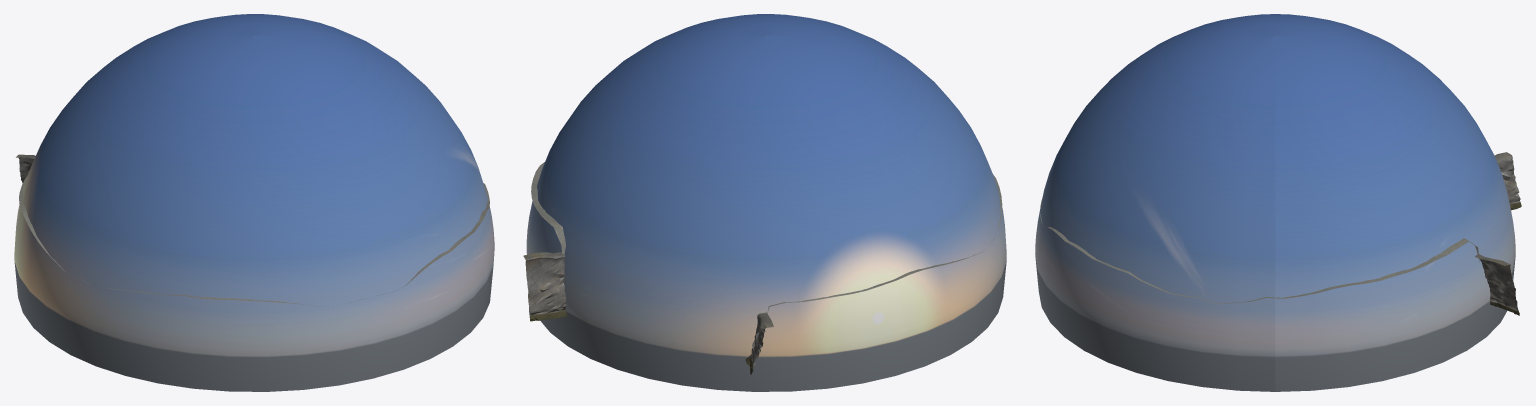
Rendered from benbow_cove.gltf.
The picture shows the model from 3 angles, left to right: view 1: azimuth 30°, elevation 25°; view 2: azimuth 150°, elevation 25°; view 3: azimuth 270°, elevation 25°; orthographic projection.
Parts seen in each view (by area): view 1: SkyDome, far.land; view 2: SkyDome, MESH_CliffFar, far.land; view 3: SkyDome, MESH_CliffFar, far.land.
Part boxes in pixels (<box>): SkyDome: <box>14,14,494,391</box>; far.land: <box>19,177,489,306</box>; SkyDome: <box>526,14,1006,391</box>; MESH_CliffFar: <box>523,252,773,375</box>; far.land: <box>531,162,1002,311</box>; SkyDome: <box>1035,14,1515,391</box>; MESH_CliffFar: <box>1475,152,1521,315</box>; far.land: <box>1040,199,1479,304</box>.
Size of the model in its own units: 296 by 174 by 300.
22 materials, 22 textured.
